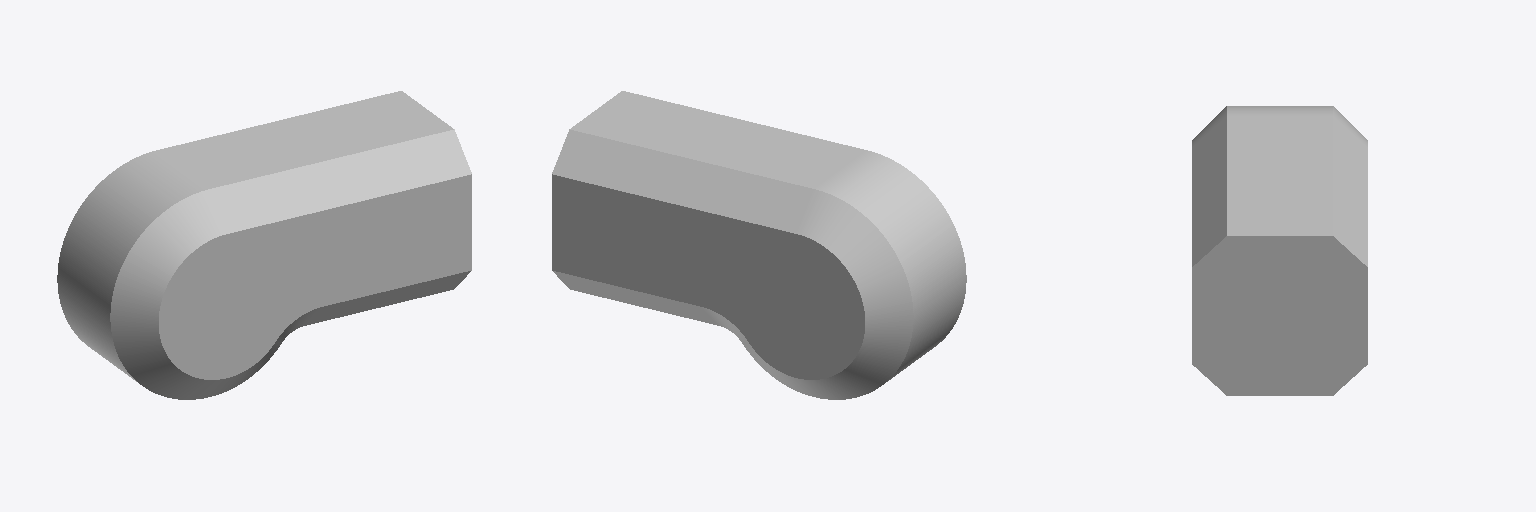
Rendered from Bone3.obj.
3 renders of one model, left to right at view 1: azimuth 30°, elevation 25°; view 2: azimuth 150°, elevation 25°; view 3: azimuth 270°, elevation 25°, orthographic.
Parts seen in each view (by area): view 1: Bone3; view 2: Bone3; view 3: Bone3.
Part boxes in pixels (x1,y1,x2,y2): Bone3: (57, 91, 471, 399); Bone3: (552, 91, 966, 399); Bone3: (1192, 106, 1367, 395).
Bounding box in the file's own units: 281 × 162 × 125.